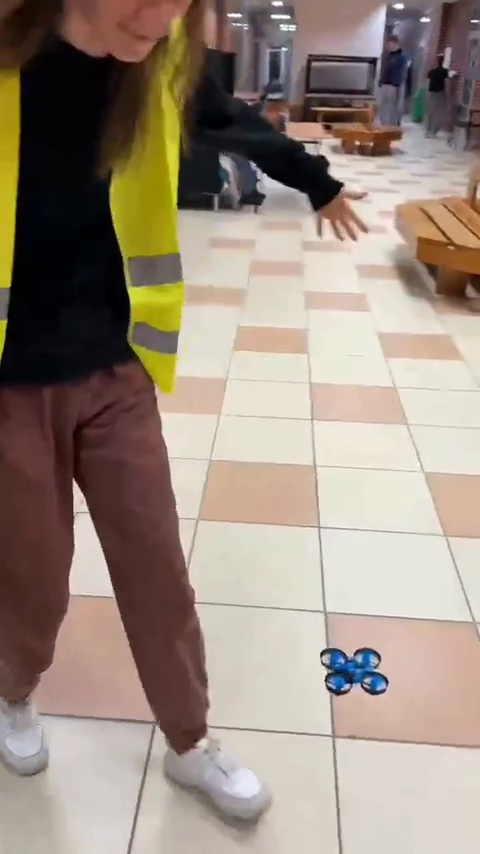drone: (313, 643, 391, 695)
no vest: (376, 30, 408, 128), (420, 53, 453, 130)
vest: (2, 3, 271, 808)
